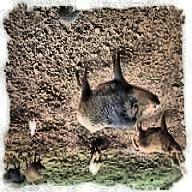boar: (81, 45, 165, 137)
